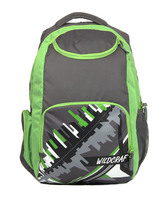bag: (16, 10, 153, 195)
